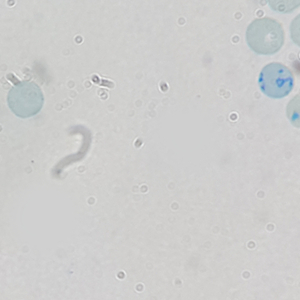aggregate reticulocyte: (256, 60, 297, 99)
erythrocyte: (5, 77, 47, 120), (244, 16, 287, 56)
